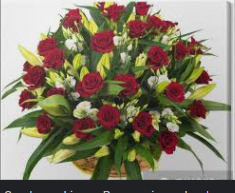RedRose: (110, 74, 139, 97), (58, 10, 84, 32), (80, 72, 104, 95), (152, 41, 170, 71), (163, 76, 185, 100), (44, 47, 69, 68), (19, 66, 45, 85), (133, 113, 153, 137), (93, 29, 114, 51), (33, 37, 57, 56), (97, 107, 118, 128), (16, 88, 36, 110), (174, 39, 194, 59), (189, 97, 207, 119), (35, 114, 55, 133), (74, 121, 94, 140), (160, 131, 177, 153), (103, 5, 123, 21), (128, 16, 144, 35), (146, 16, 162, 35), (196, 68, 212, 87), (45, 86, 70, 98), (134, 1, 151, 15)
